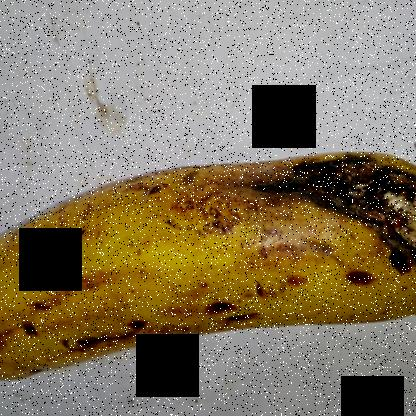ripe: (0, 123, 415, 396)
rotten: (242, 123, 416, 264)
